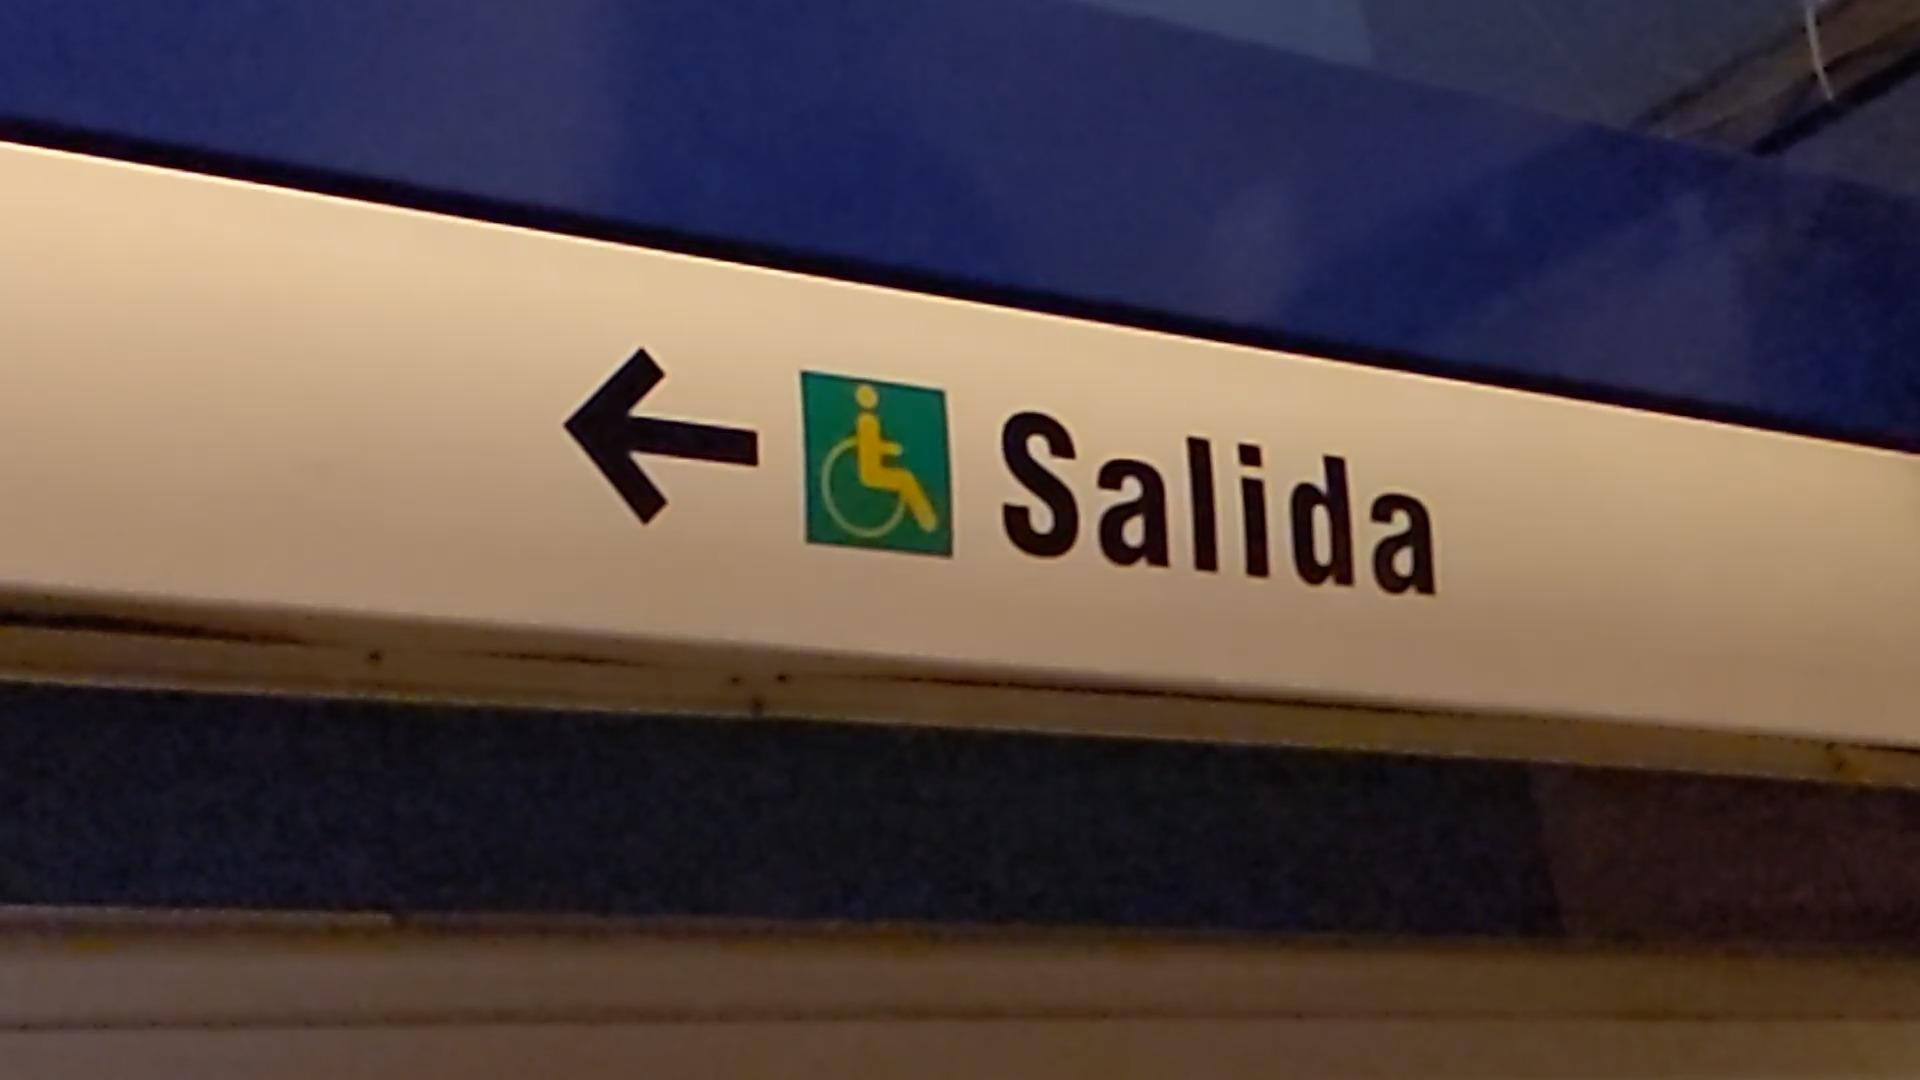handicapped symbol: (815, 381, 942, 547)
left arrow: (558, 342, 764, 526)
